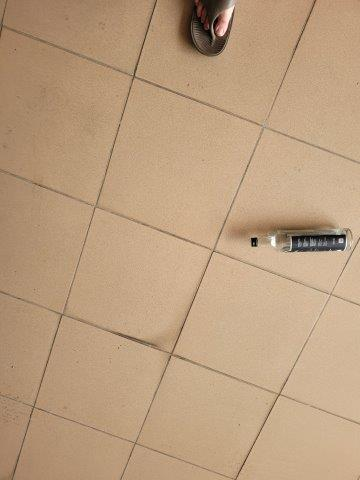botolkaca: (251, 228, 354, 255)
